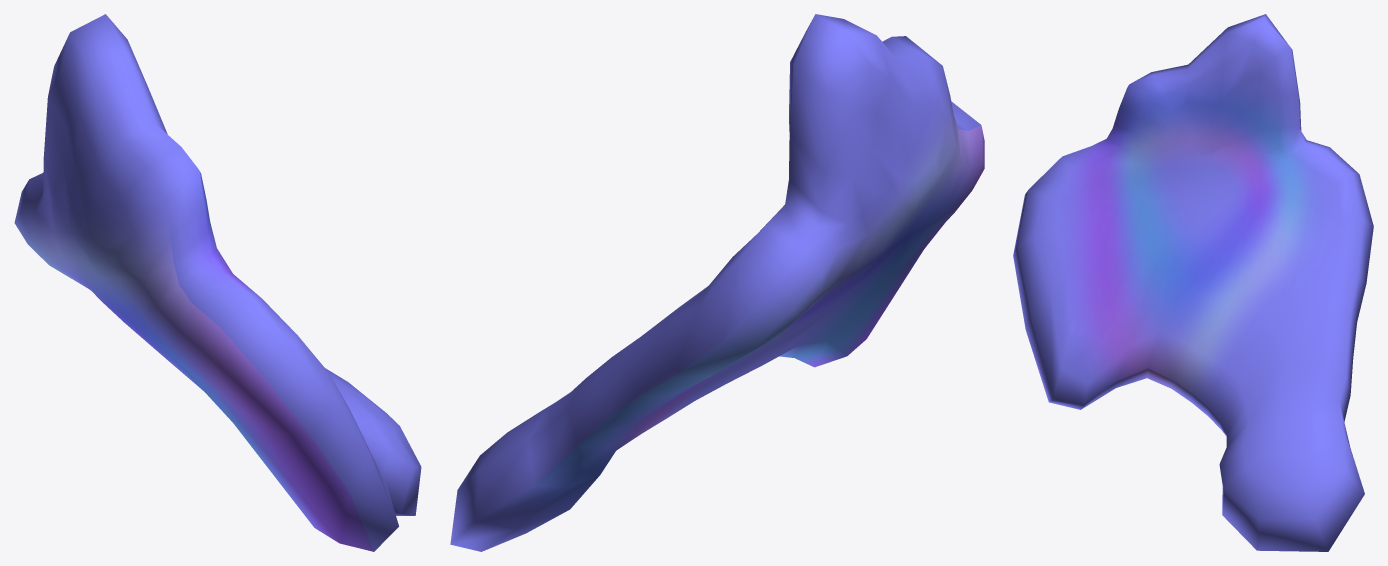
The model's file is p_mesh_trashbot_destruction_arenagoop03_pose0.fbx.
3 renders of one model, left to right at view 1: azimuth 30°, elevation 25°; view 2: azimuth 150°, elevation 25°; view 3: azimuth 270°, elevation 25°, orthographic. The views are drawn at different scales.
Visible parts, largest first — view 1: trashbot_destruction_goop3_pose0; view 2: trashbot_destruction_goop3_pose0; view 3: trashbot_destruction_goop3_pose0.
Part boxes in pixels (<box>): trashbot_destruction_goop3_pose0: <box>14,14,421,551</box>; trashbot_destruction_goop3_pose0: <box>450,14,984,551</box>; trashbot_destruction_goop3_pose0: <box>1013,14,1373,551</box>.
Bounding box in the file's own units: 29.6 × 42.82 × 33.06.
